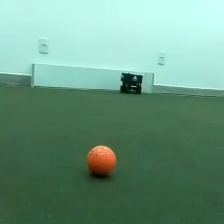ball: (84, 143, 118, 179)
goal: (28, 61, 156, 96)
robot: (119, 71, 143, 95)
